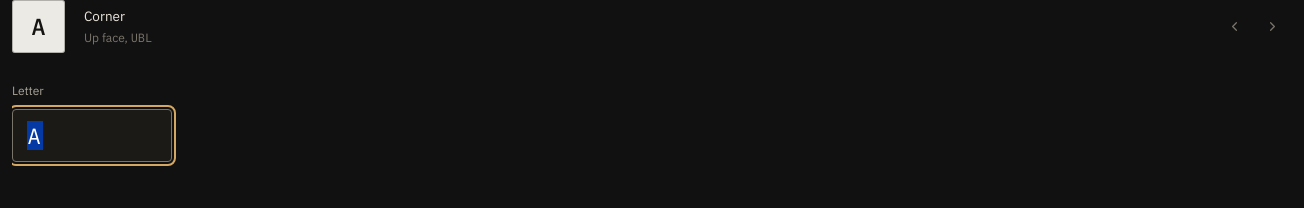
Test: lettering field completion › restores duplicate edits on blur and sticker change to the last valid value
Step 1. Replace the text in the field with "CH" → (92, 136), box [12,109,172,162]
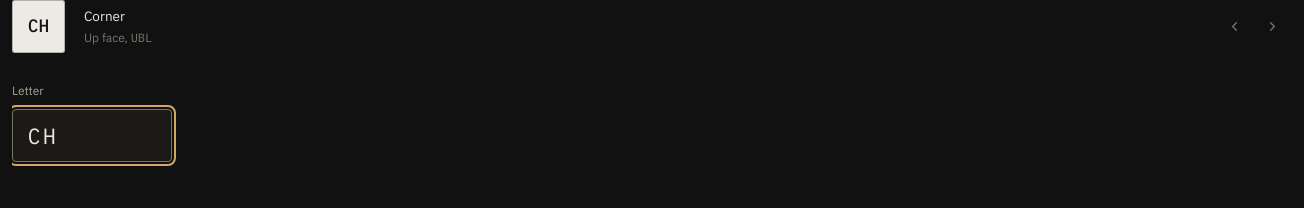
Step 2. Replace the text in the field with "B" → (92, 136), box [12,109,172,162]
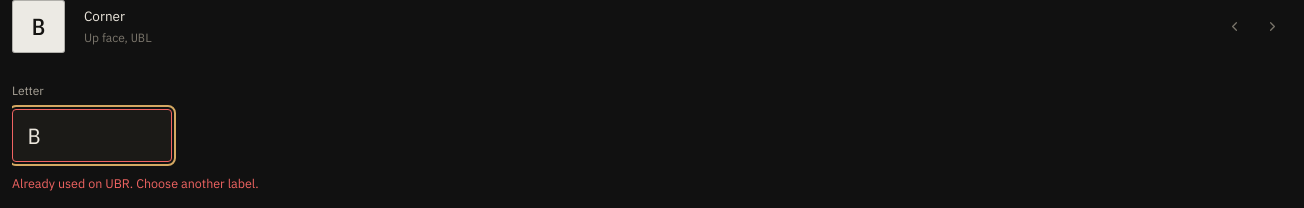
Step 3. Leave the field, box [12,109,172,162]
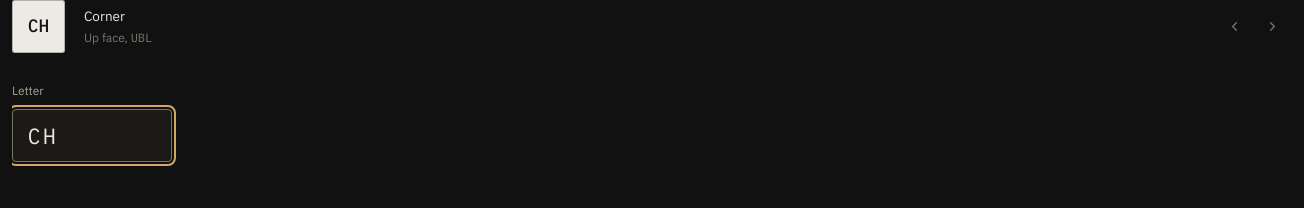
Expected: the field is not marked as invalid
Step 4. Replace the text in the field with "B" → (92, 136), box [12,109,172,162]
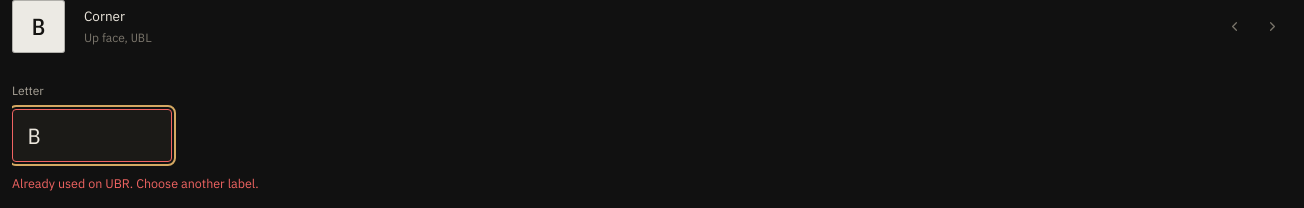
Step 5. Press Enter in the field, box [12,109,172,162]
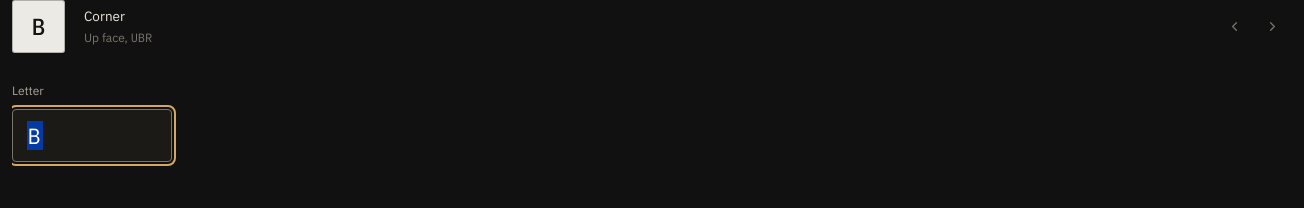
Step 6. Click the button named "Previous sticker" → (1234, 26), box [1215,7,1254,46]
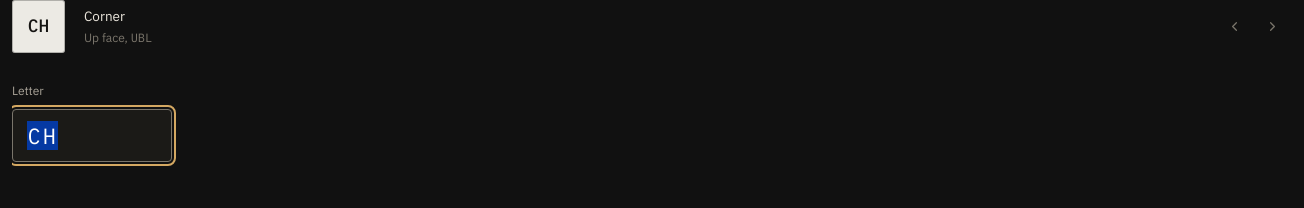
Expected: the field holds "CH", [12,109,172,162]
